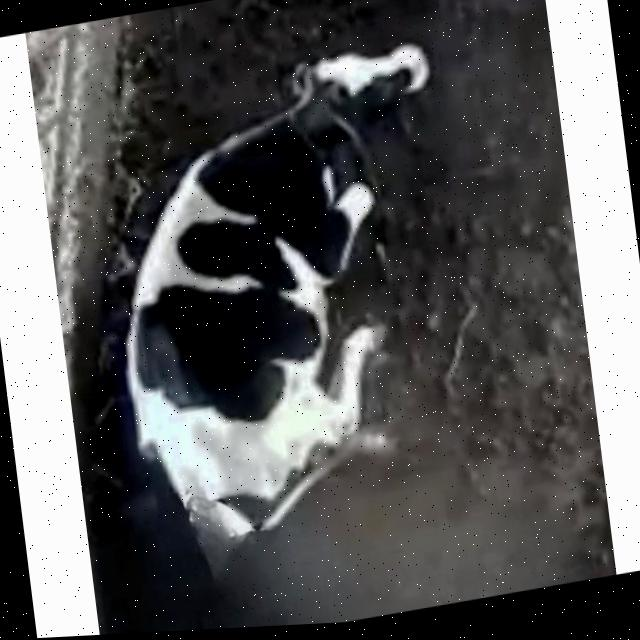lay: (124, 44, 427, 537)
